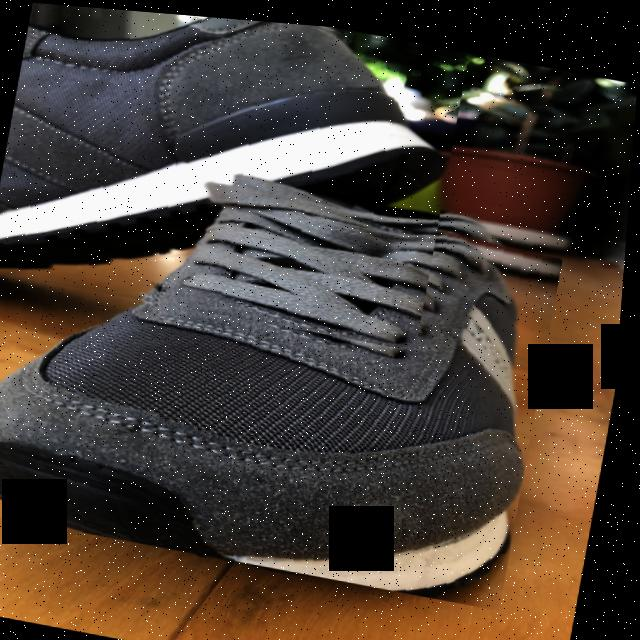shoe: (0, 126, 573, 603), (0, 0, 469, 345)
